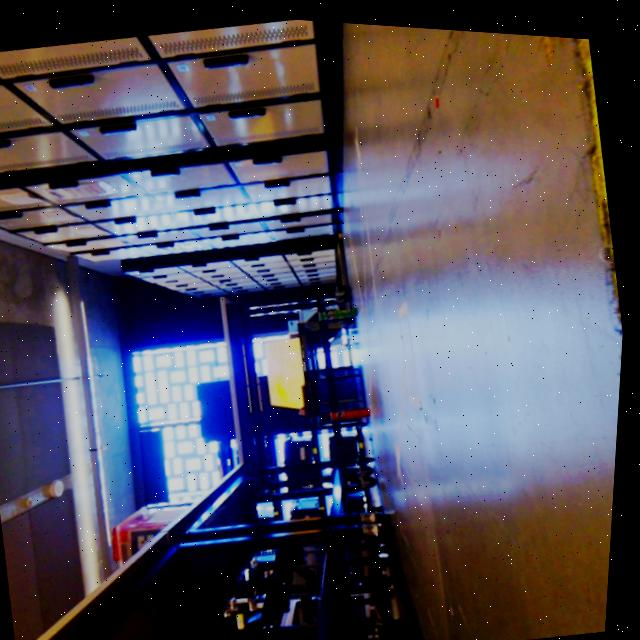greenpringles: (293, 282, 376, 338)
redpringles: (311, 391, 397, 436)
